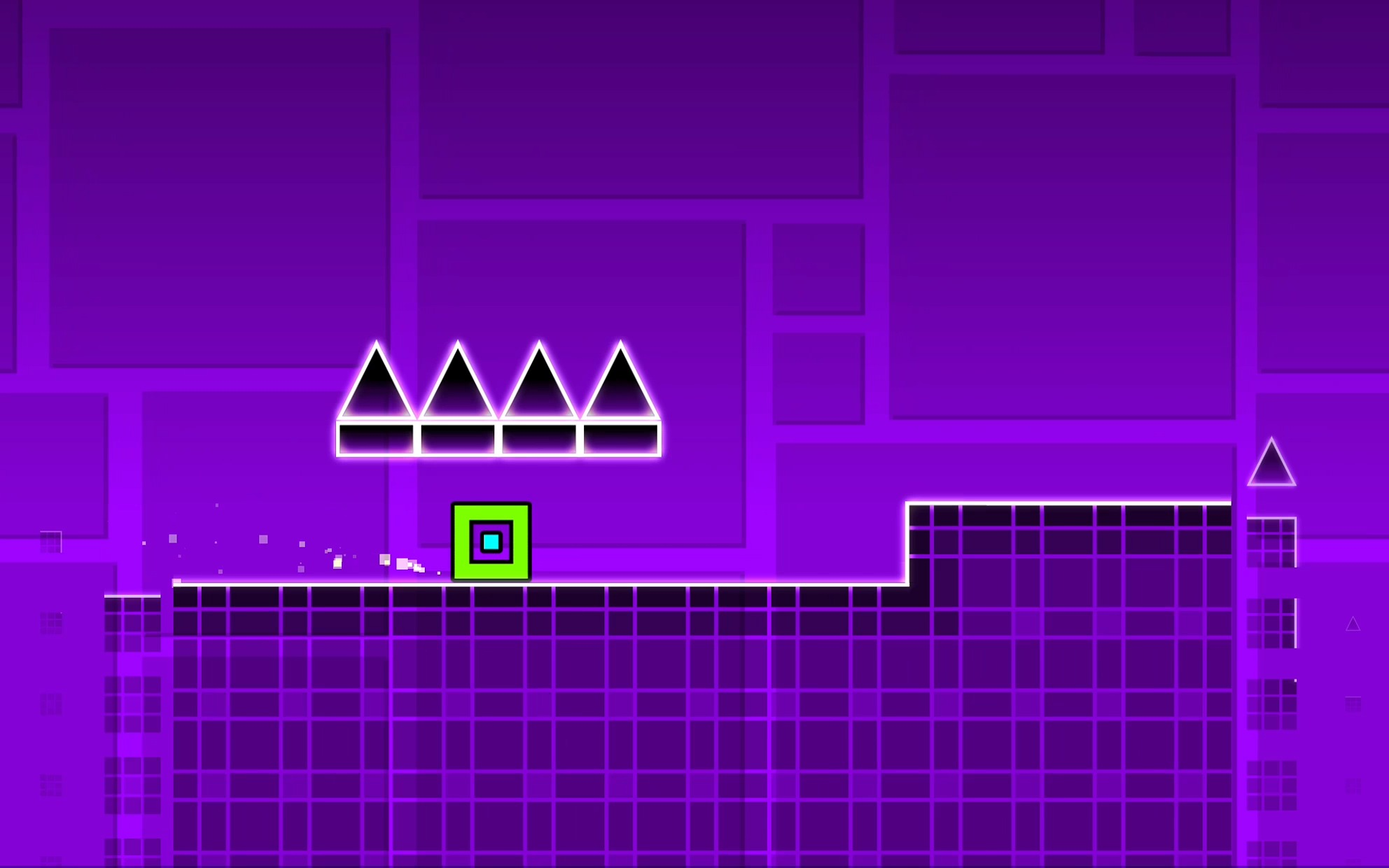Block2: (100, 585, 908, 868), (907, 504, 1298, 868)
Block3: (335, 420, 421, 463), (417, 422, 498, 463), (579, 419, 662, 457), (501, 422, 580, 458)
Player: (450, 503, 529, 580)
Spike: (338, 341, 414, 418), (583, 340, 659, 416), (420, 342, 493, 417), (503, 341, 576, 416), (1247, 436, 1297, 485)
